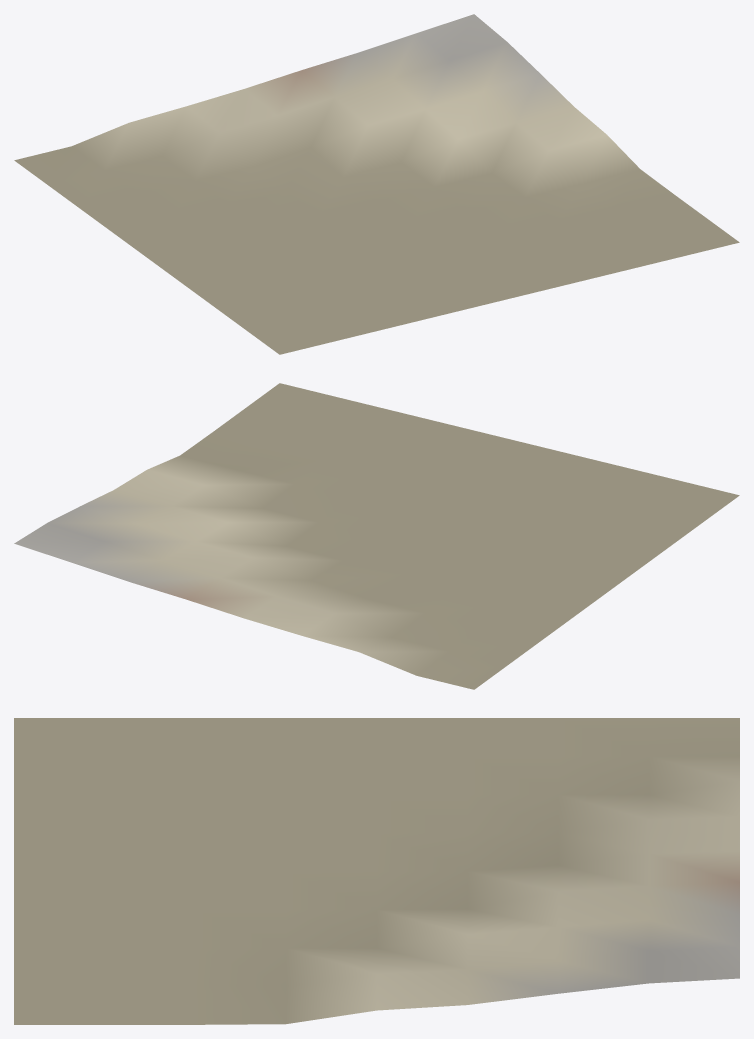
3 renders of one model, top to bottom at view 1: azimuth 30°, elevation 25°; view 2: azimuth 150°, elevation 25°; view 3: azimuth 270°, elevation 25°, orthographic. The views are drawn at different scales.
Visible parts, largest first — view 1: Lo; view 2: Lo; view 3: Lo.
Part boxes in pixels (x1=…): Lo: x1=14, y1=14, x2=739, y2=354; Lo: x1=14, y1=383, x2=739, y2=689; Lo: x1=14, y1=718, x2=739, y2=1024.
Bounding box in the file's own units: 256 × 18.04 × 256.
